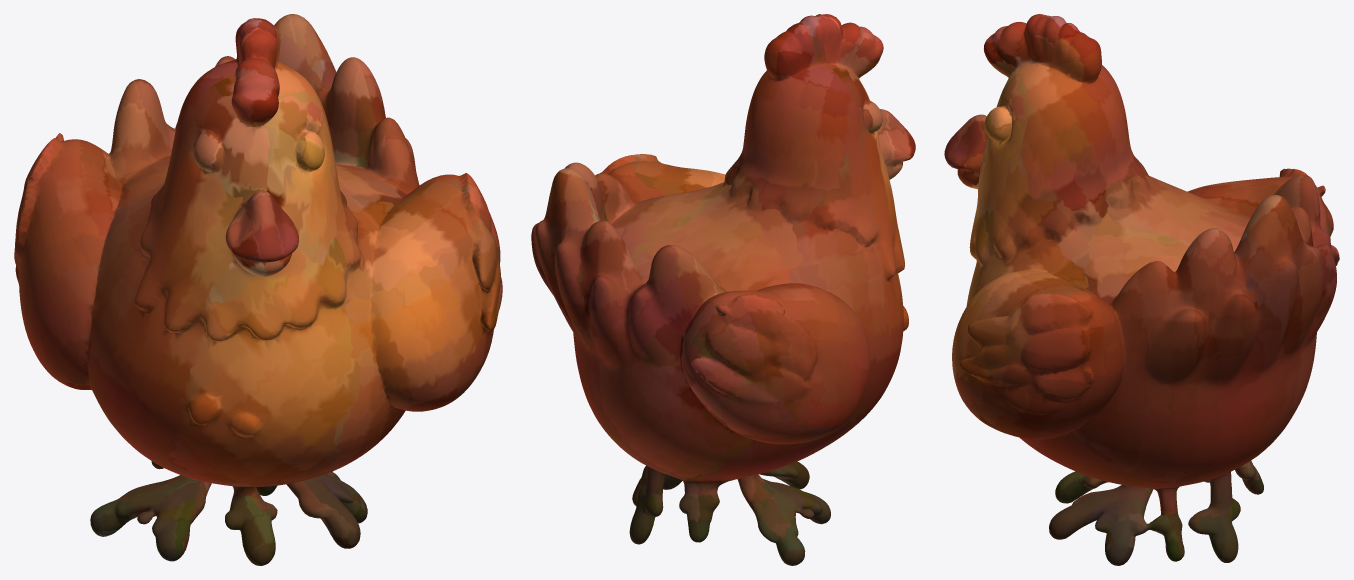
The model's file is ga-trong.glb.
The picture shows the model from 3 angles, left to right: view 1: azimuth 30°, elevation 25°; view 2: azimuth 150°, elevation 25°; view 3: azimuth 270°, elevation 25°; orthographic projection. The views are drawn at different scales.
Bounding box in the file's own units: 0.0745 × 0.107 × 0.0766.
Materials: 1 (1 with a texture image).
